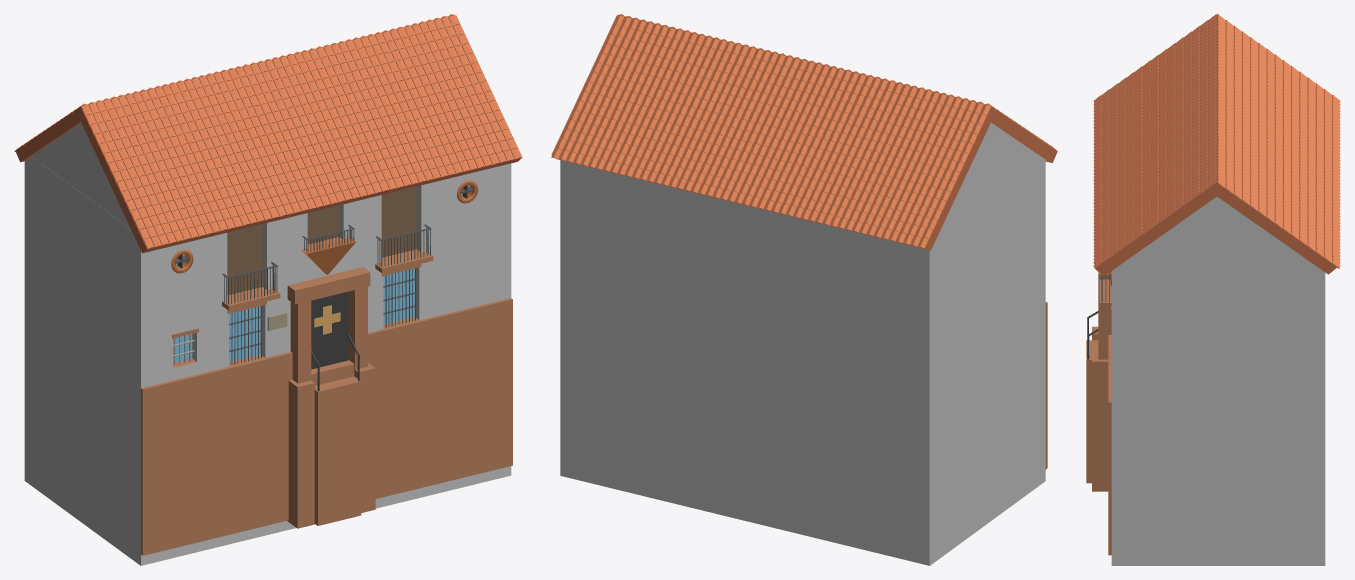
File: 3_Farmacia_Guzman_Javier_Sanchez.fbx
3 views of the same model, side by side, from view 1: azimuth 30°, elevation 25°; view 2: azimuth 150°, elevation 25°; view 3: azimuth 270°, elevation 25° (orthographic). The views are drawn at different scales.
Parts seen in each view (by area): view 1: Cube.011, Tejas_2.001, Cube.005, Peldaño2, Cube.014, Cube.001, Cube.004, Plane.003, Barandilla2, Plane.001, Plane, Barrotes2 (+5 smaller); view 2: Cube.011, Tejas_2.001, Cube.014; view 3: Cube.011, Tejas_2.001, Cube.014, Cube.001, Peldaño2, Cube.005, Cube.004, Cube.009.
Boxes of the visible parts, <box> form: Cube.011: <box>24,123,511,565</box>; Tejas_2.001: <box>14,14,521,249</box>; Cube.005: <box>141,298,512,555</box>; Peldaño2: <box>311,360,361,525</box>; Cube.014: <box>15,15,522,253</box>; Cube.001: <box>287,363,375,528</box>; Cube.004: <box>287,267,370,383</box>; Plane.003: <box>311,291,349,369</box>; Barandilla2: <box>222,224,431,304</box>; Plane.001: <box>227,224,262,295</box>; Plane: <box>381,186,416,257</box>; Barrotes2: <box>229,268,418,364</box>; Cube.011: <box>560,122,1045,565</box>; Tejas_2.001: <box>551,14,1057,248</box>; Cube.014: <box>551,15,1057,250</box>; Cube.011: <box>1111,197,1325,565</box>; Tejas_2.001: <box>1093,14,1340,268</box>; Cube.014: <box>1095,15,1337,275</box>; Cube.001: <box>1092,326,1108,491</box>; Peldaño2: <box>1086,340,1098,483</box>; Cube.005: <box>1108,335,1111,555</box>; Cube.004: <box>1098,272,1111,359</box>; Cube.009: <box>1099,279,1111,306</box>.
Size of the model in its own units: 1166 by 1245 by 744.
